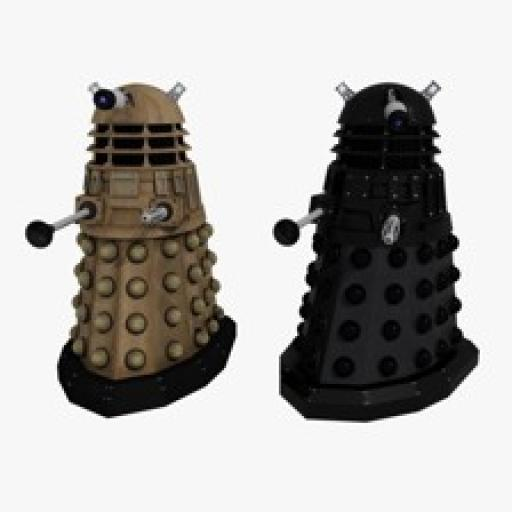dalek: (14, 71, 239, 417), (269, 76, 478, 428)
